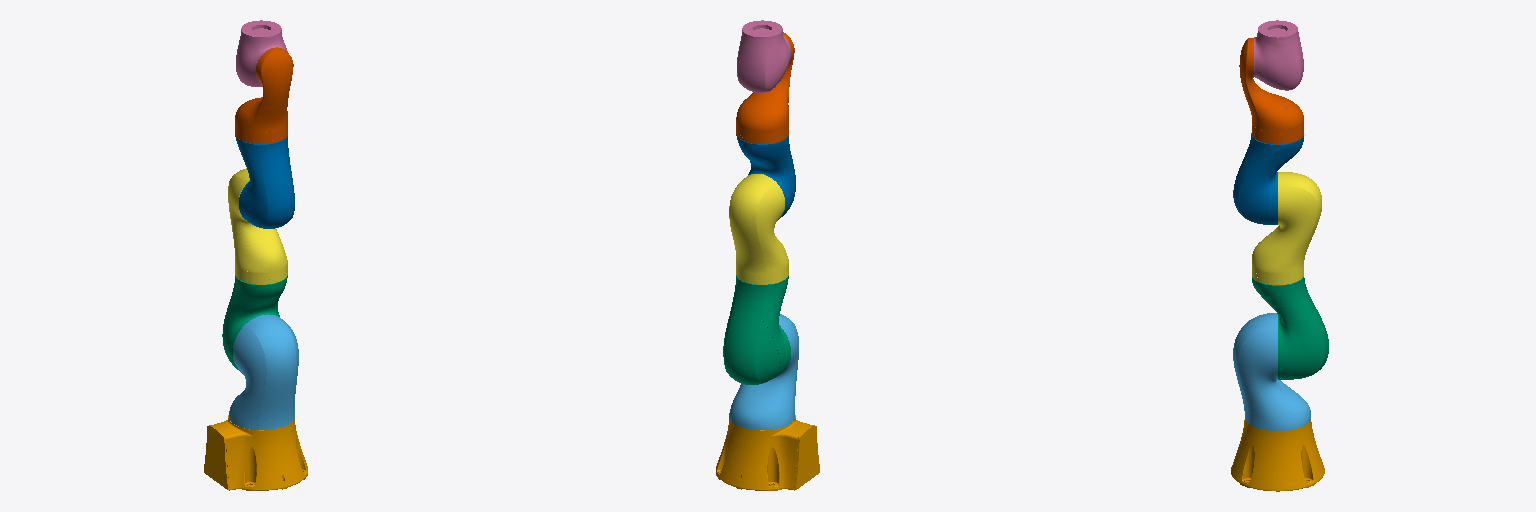
robot.urdf — KUKAiiwa14:
<?xml version="1.0" ?>
<!-- URDF of the KUKA iiwa 14 robot generated by robcogen and extended manually -->
<!-- Added interias and other properties by hand.                               -->
<robot name="KUKAiiwa14">

  <link name="iiwaBase">
    <inertial>
      <origin xyz="0.00000 0.00000 0.00000"/>
      <mass value="8.00000"/>
      <inertia ixx="0.00095" iyy="0.00133" izz="0.00118" ixy="0.00000" ixz="-0.00000" iyz="-0.00006"/>
    </inertial>
    <visual>
      <origin xyz="0.0 0.0 0.0" rpy="0.0 0.0 0.0" />            
      <geometry>
        <mesh filename="package://robot_properties_iiwa/meshes/iiwa14_base.stl" scale="0.001 0.001 0.001" />
      </geometry>
    </visual>    
  </link>


  <joint name="A1" type="revolute">
    <origin xyz="0.00000 0.00000 0.15750" rpy="0.0 0.0 0.0"/>
    <parent link="iiwaBase"/>
    <child  link="L1"/>
    <limit effort="30" velocity="1.0"/>
    <axis xyz="0 0 1"/>
  </joint>


  <link name="L1">
    <inertial>
      <origin xyz="0.00000 0.00000 0.00000"/>
      <mass value="4.00000"/>
      <inertia ixx="0.00095" iyy="0.00133" izz="0.00118" ixy="0.00000" ixz="-0.00000" iyz="-0.00006"/>
    </inertial>
    <visual>
      <origin xyz="0.0 0.0 0.0" rpy="0.0 0.0 0.0"/>
      <geometry>
	      <mesh filename="package://robot_properties_iiwa/meshes/iiwa14_link1.stl" scale="0.001 0.001 0.001" />
      </geometry>
    </visual>
  </link>  


  <joint name="A2" type="revolute">
    <origin xyz="0.00000 0.00000 0.20250" rpy="2.3561944901923457 -1.5707962635746238 2.3561944901923457"/>
    <parent link="L1"/>
    <child  link="L2"/>
    <limit effort="30" velocity="1.0"/>
    <axis xyz="0 0 1"/>
  </joint>


  <link name="L2">
    <inertial>
      <origin xyz="0.20920 -0.00010 0.04730"/>
      <mass value="4.00000"/>
      <inertia ixx="0.00145" iyy="0.00986" izz="0.00951" ixy="-0.00000" ixz="0.00096" iyz="-0.00000"/>
    </inertial>
    <visual>
      <origin xyz="0.0 0.0 0.0" rpy="0.0 0.0 0.0"/>
      <geometry>
	      <mesh filename="package://robot_properties_iiwa/meshes/iiwa14_link2.stl" scale="0.001 0.001 0.001" />
      </geometry>
    </visual>
  </link>


  <joint name="A3" type="revolute">
    <origin xyz="0.20450 0.00000 0.00000" rpy="1.5707963267948948 -4.371139000186238E-8 1.5707963705062866"/>
    <parent link="L2"/>
    <child  link="L3"/>
    <limit effort="30" velocity="1.0"/>
    <axis xyz="0 0 1"/>
  </joint>


  <link name="L3">
    <inertial>
      <origin xyz="0.20920 0.00010 -0.04730"/>
      <mass value="4.00000"/>
      <inertia ixx="0.00145" iyy="0.00986" izz="0.00951" ixy="-0.00000" ixz="-0.00096" iyz="0.00000"/>
    </inertial> 
    <visual>
      <origin xyz="0.0 0.0 0.0" rpy="0.0 0.0 0.0"/>
      <geometry>
	      <mesh filename="package://robot_properties_iiwa/meshes/iiwa14_link3.stl" scale="0.001 0.001 0.001" />
      </geometry>
    </visual>  
  </link>


  <joint name="A4" type="revolute">
    <origin xyz="0.00000 0.00000 0.21550" rpy="1.5707963705062866 -0.0 0.0"/>
    <parent link="L3"/>
    <child  link="L4"/>
    <limit effort="30" velocity="1.0"/>
    <axis xyz="0 0 1"/>
  </joint>


  <link name="L4">
    <inertial>
      <origin xyz="-0.01260 -0.00010 0.05450"/>
      <mass value="4.00000"/>
      <inertia ixx="0.00100" iyy="0.00133" izz="0.00118" ixy="0.00000" ixz="-0.00000" iyz="0.00006"/>
    </inertial>
    <visual>
      <origin xyz="0.0 0.0 0.0" rpy="0.0 0.0 0.0"/>
      <geometry>
	      <mesh filename="package://robot_properties_iiwa/meshes/iiwa14_link4.stl" scale="0.001 0.001 0.001" />
      </geometry>
    </visual>
  </link>


  <joint name="A5" type="revolute">
    <origin xyz="0.00000 0.18450 0.00000" rpy="-1.5707963705062866 0.0 -0.0"/>
    <parent link="L4"/>
    <child  link="L5"/>
    <limit effort="30" velocity="1.0"/>
    <axis xyz="0 0 1"/>
  </joint>


  <link name="L5">
    <inertial>
      <origin xyz="-0.01260 -0.00010 0.05450"/>
      <mass value="3.00000"/>
      <inertia ixx="0.00100" iyy="0.00133" izz="0.00118" ixy="0.00000" ixz="-0.00000" iyz="0.00001"/>
    </inertial>
    <visual>
      <origin xyz="0.0 0.0 0.0" rpy="0.0 0.0 0.0"/>
      <geometry>
	      <mesh filename="package://robot_properties_iiwa/meshes/iiwa14_link5.stl" scale="0.001 0.001 0.001" />
      </geometry>
    </visual>
  </link>


  <joint name="A6" type="revolute">
    <origin xyz="0.00000 -0.06070 0.21550" rpy="2.3561944901923457 -1.5707962635746238 2.3561944901923457"/>
    <parent link="L5"/>
    <child  link="L6"/>
    <limit effort="30" velocity="1.0"/>
    <axis xyz="0 0 1"/>
  </joint>
  

  <link name="L6">
    <inertial>
      <origin xyz="-0.05000 0.00400 0.12700"/>
      <mass value="2.00000"/>
      <inertia ixx="0.00354" iyy="0.00416" izz="0.00104" ixy="0.00000" ixz="-0.00000" iyz="-0.00000"/>
    </inertial>
    <visual>
      <origin xyz="0.0 0.0 0.0" rpy="0.0 0.0 0.0"/>
      <geometry>
	      <mesh filename="package://robot_properties_iiwa/meshes/iiwa14_link6.stl" scale="0.001 0.001 0.001" />
      </geometry>
    </visual>
  </link>

  
  <joint name="A7" type="revolute">
    <origin xyz="0.08100 0.00000 0.06070" rpy="1.5707963267948948 -4.371139000186238E-8 1.5707963705062866"/>
    <parent link="L6"/>
    <child  link="L7"/>
    <limit effort="30" velocity="1.0"/>
    <axis xyz="0 0 1"/>
  </joint>


  <link name="L7">
    <inertial>
      <origin xyz="-0.05000 0.00400 0.12700"/>
      <mass value="1.00000"/>
      <inertia ixx="0.00354" iyy="0.00416" izz="0.00104" ixy="0.00000" ixz="0.00000" iyz="-0.00000"/>
    </inertial>

    <visual>      
      <origin xyz="0.0 0.0 0.0" rpy="0.0 0.0 0.0"/>
      <geometry>
	      <mesh filename="package://robot_properties_iiwa/meshes/iiwa14_link7.stl" scale="0.001 0.001 0.001" />
      </geometry>
    </visual>
  </link>


  <joint name="END" type="fixed">
    <parent link="L7"/>
    <child link="contact"/>
    <!-- Joint placement -->
    <origin rpy="0 0 0" xyz="0 0.0 0.04"/>
    <!-- Limits (usefull?) -->
    <limit effort="1000" lower="-10" upper="10" velocity="1000"/>
    <!-- pybullet simulation parameters -->
    <dynamics damping="0.0" friction="0.0"/>
  </joint>


  <link name="contact">
    <!-- Modeling the contact as a tennis ball. -->
    <inertial>
      <origin rpy="0 0 0" xyz="0 0 0.0"/>
      <mass value="0.057"/>
      <inertia ixx="0.0000354" ixy="0.0" ixz="0.0" iyy="0.0000354" iyz="0.0" izz="0.0000354"/>
    </inertial>

    <visual>
      <origin rpy="0 0 0" xyz="0 0 0"/>
      <geometry>
        <!-- Using unit sphere and rescale to 6.5 cm diameter of tennis ball. -->
        <!-- TODO(skleff): Figure out if the scaling is correct to give us a 6.5 cm sphere. -->
        <mesh filename="package://robot_properties_iiwa/meshes/sphere.obj" scale="0.065 0.065 0.065"/>/>
      </geometry>
      <material name="grey">
        <color rgba="0.8 0.8 0.8 1.0"/>
      </material>
    </visual>

    <collision>
      <origin rpy="0 0 0" xyz="0 0 0"/>
      <geometry>
        <mesh filename="package://robot_properties_iiwa/meshes/sphere.obj" scale="0.065 0.065 0.065"/>/>
      </geometry>
      <material name="grey">
        <color rgba="0.8 0.8 0.8 1.0"/>
      </material>
    </collision>

    <!-- Bullet specific paramters -->
    <contact>
      <lateral_friction value="1.0"/>
      <restitution value="0.5"/>
    </contact>
  </link>


</robot>

--- Render facts (derived) ---
3 views of the same robot in one strip: view 1: azimuth 30°, elevation 25°; view 2: azimuth 150°, elevation 25°; view 3: azimuth 270°, elevation 25° (orthographic).
Model KUKAiiwa14 with 9 links and 8 joints (7 revolute, 1 fixed), rooted at iiwaBase, posed every joint at zero.
Visible links, largest first — view 1: L1, iiwaBase, L4, L5, L3, L2, L6; view 2: iiwaBase, L2, L3, L1, L6, L5, L4; view 3: L1, iiwaBase, L3, L2, L4, L5, L6.
Boxes of the visible links, left/top/right/bottom form: L1: left=229, top=314, right=298, bottom=429; iiwaBase: left=204, top=415, right=307, bottom=490; L4: left=235, top=135, right=294, bottom=228; L5: left=235, top=48, right=293, bottom=143; L3: left=228, top=168, right=287, bottom=284; L2: left=222, top=275, right=287, bottom=373; L6: left=236, top=20, right=287, bottom=86; iiwaBase: left=716, top=415, right=819, bottom=490; L2: left=723, top=275, right=790, bottom=384; L3: left=729, top=174, right=788, bottom=284; L1: left=729, top=314, right=798, bottom=429; L6: left=737, top=20, right=790, bottom=92; L5: left=736, top=32, right=794, bottom=143; L4: left=736, top=135, right=795, bottom=219; L1: left=1233, top=313, right=1310, bottom=430; iiwaBase: left=1231, top=420, right=1324, bottom=491; L3: left=1252, top=172, right=1321, bottom=284; L2: left=1252, top=277, right=1328, bottom=379; L4: left=1233, top=133, right=1303, bottom=224; L5: left=1239, top=38, right=1303, bottom=144; L6: left=1254, top=20, right=1303, bottom=90.
Size in the robot's own frame: 0.2575 by 0.2536 by 1.26 metres.
Meshes: 9 distinct files referenced, 7 mesh visuals loaded (7 binary STL); not drawn: 2 (reference not matched to a file when rendering).